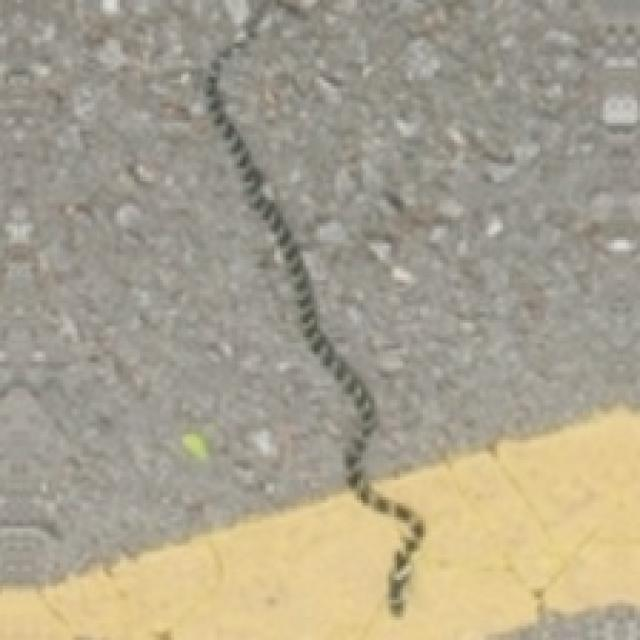king cobra: (206, 0, 423, 614)
